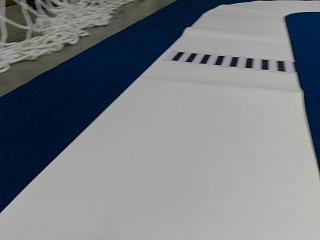crosswalk: (172, 50, 288, 71)
